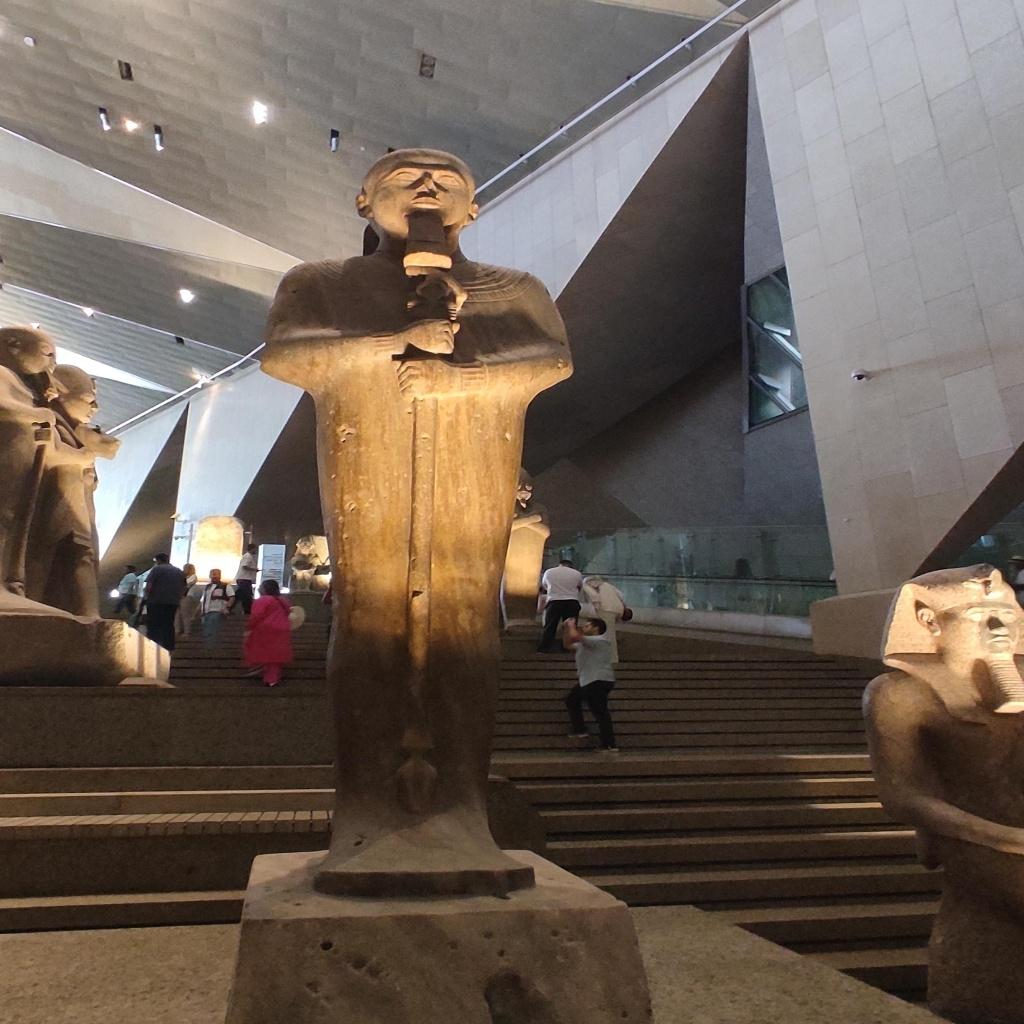Colossal Statue of God Ptah: (252, 141, 580, 901)
